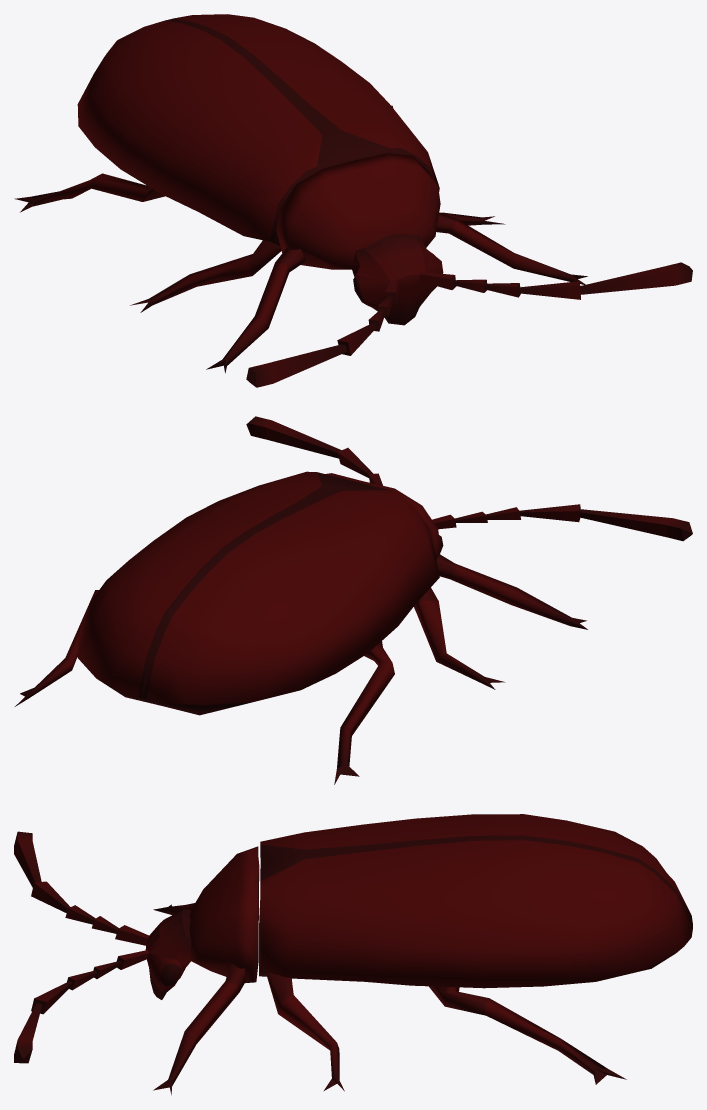
File: Insects_AlderLeafBeetle.fbx
The picture shows the model from 3 angles, top to bottom: view 1: azimuth 30°, elevation 25°; view 2: azimuth 150°, elevation 25°; view 3: azimuth 270°, elevation 25°; orthographic projection. The views are drawn at different scales.
Visible parts, largest first — view 1: base; view 2: base; view 3: base.
Part boxes in pixels (box(x1,y1,x2,y2)): base: box(14, 14, 692, 387); base: box(15, 416, 692, 784); base: box(14, 814, 692, 1095).
Size of the model in its own units: 142 by 48.21 by 182.
